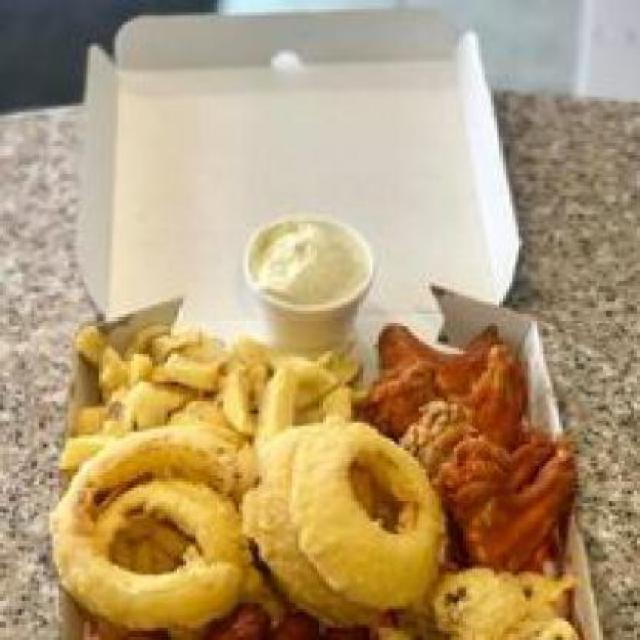chicken wings: (354, 320, 581, 558)
french fries: (65, 308, 367, 435)
onion rings: (56, 422, 444, 632)
